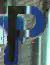Parking: (4, 0, 46, 64)
